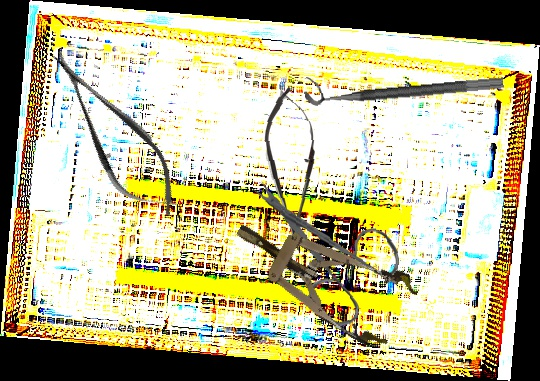Fixation Ring: (303, 60, 504, 107)
Iris Scissors: (241, 180, 405, 331)
Micro Scissor: (32, 32, 196, 234), (261, 85, 322, 254)
Speculum: (219, 191, 424, 356)
